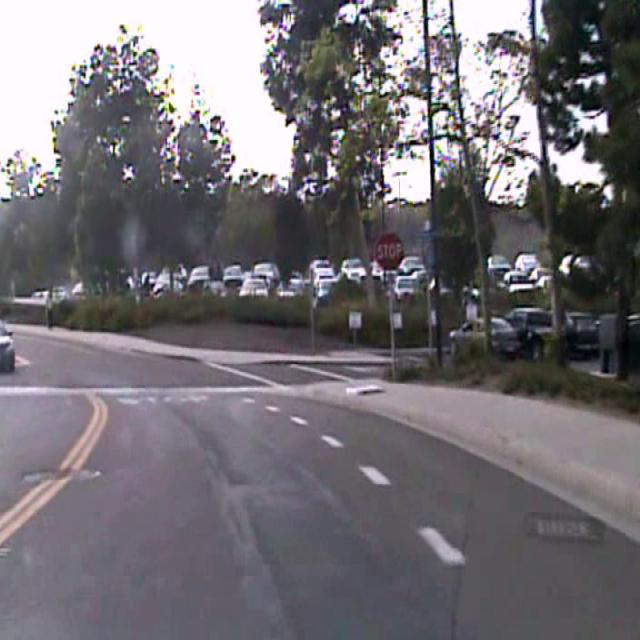stop_sign: (372, 229, 404, 271)
